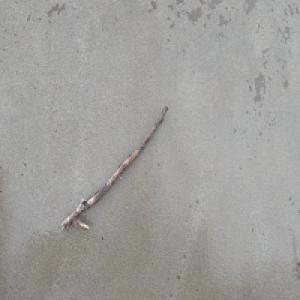Wood: (59, 104, 170, 233)
